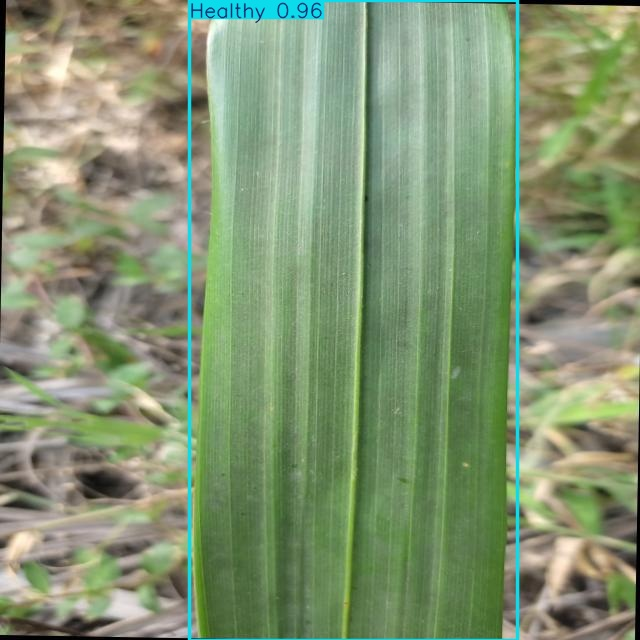Healthy: (189, 0, 517, 640)
